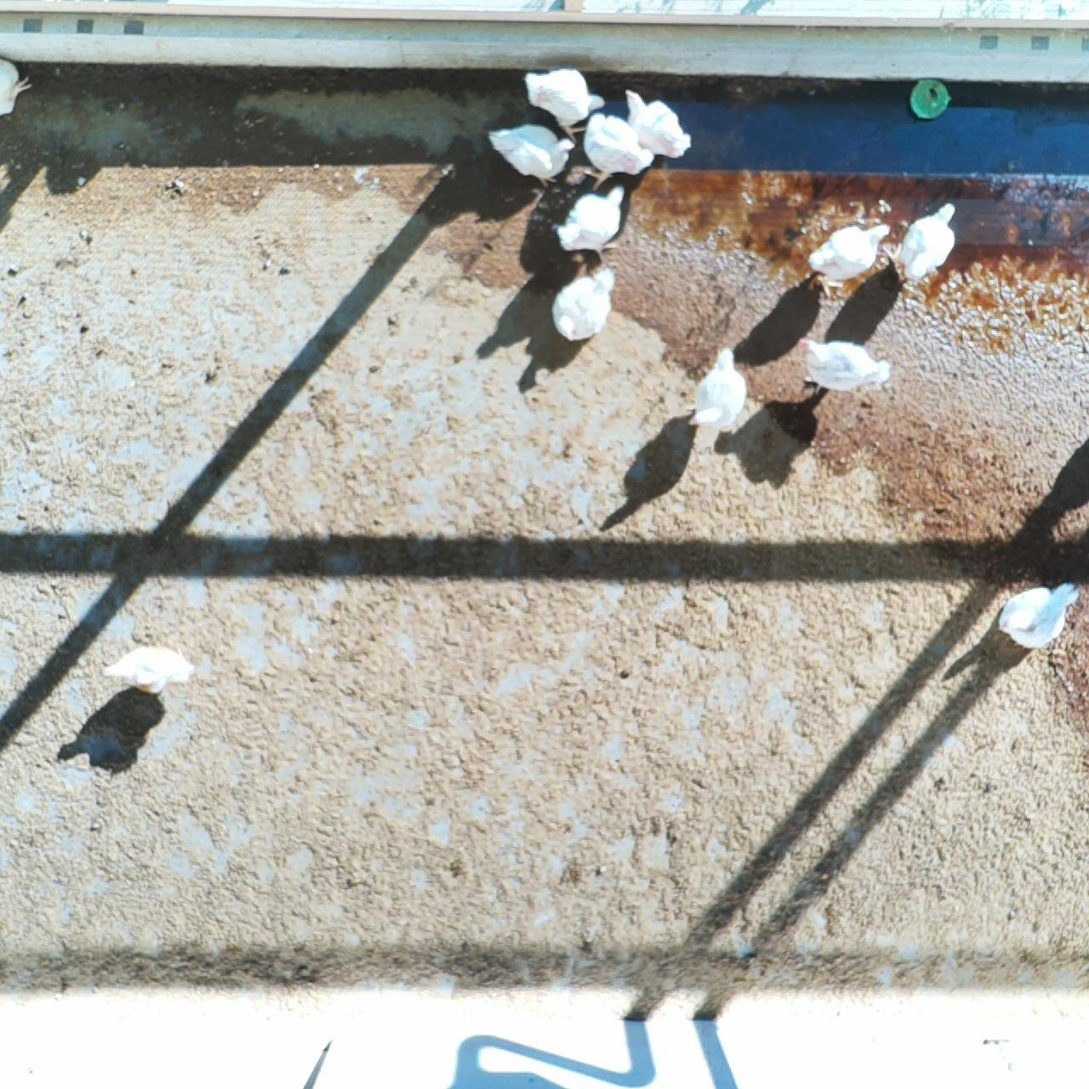chicken: (524, 68, 606, 142), (807, 223, 891, 294), (798, 335, 891, 396), (580, 113, 652, 189), (491, 123, 572, 189), (998, 581, 1076, 647), (556, 185, 624, 258), (552, 268, 616, 342), (900, 202, 956, 285), (687, 348, 745, 428), (625, 88, 689, 160), (104, 646, 195, 695), (1, 58, 34, 117)
